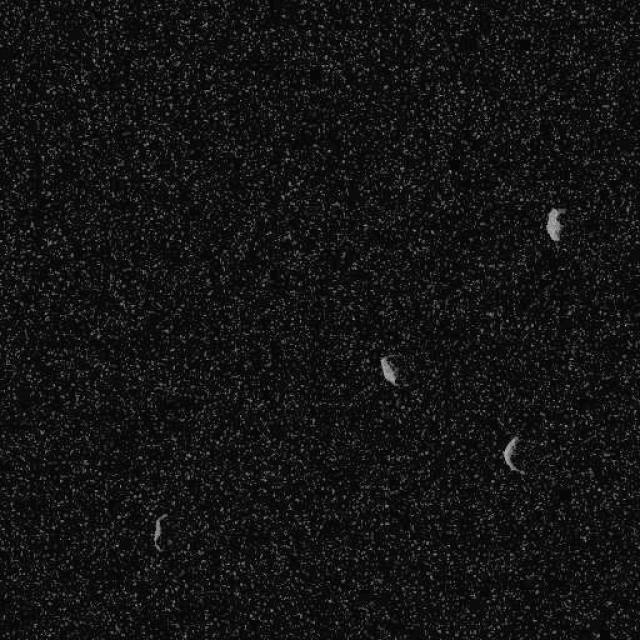D2: (502, 434, 526, 475), (379, 354, 400, 386), (544, 206, 562, 242), (152, 512, 168, 552)
